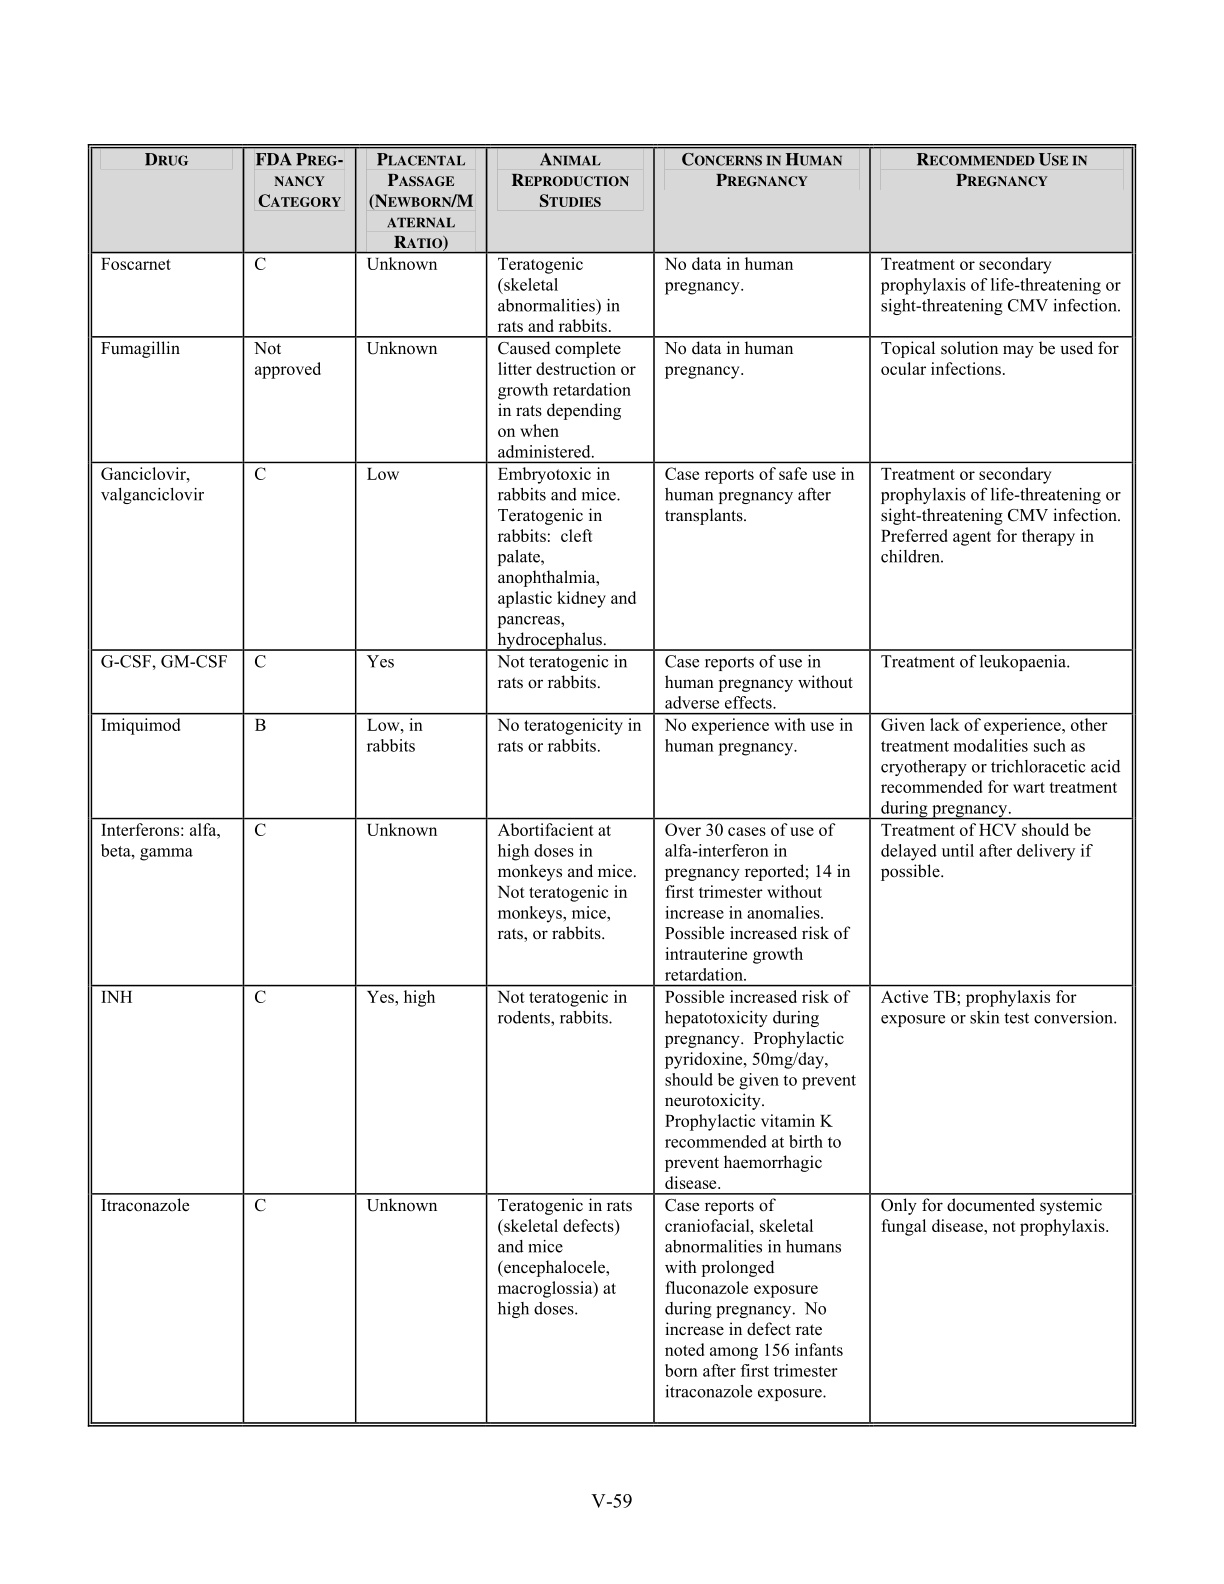full_lined: (86, 144, 1137, 1428)
